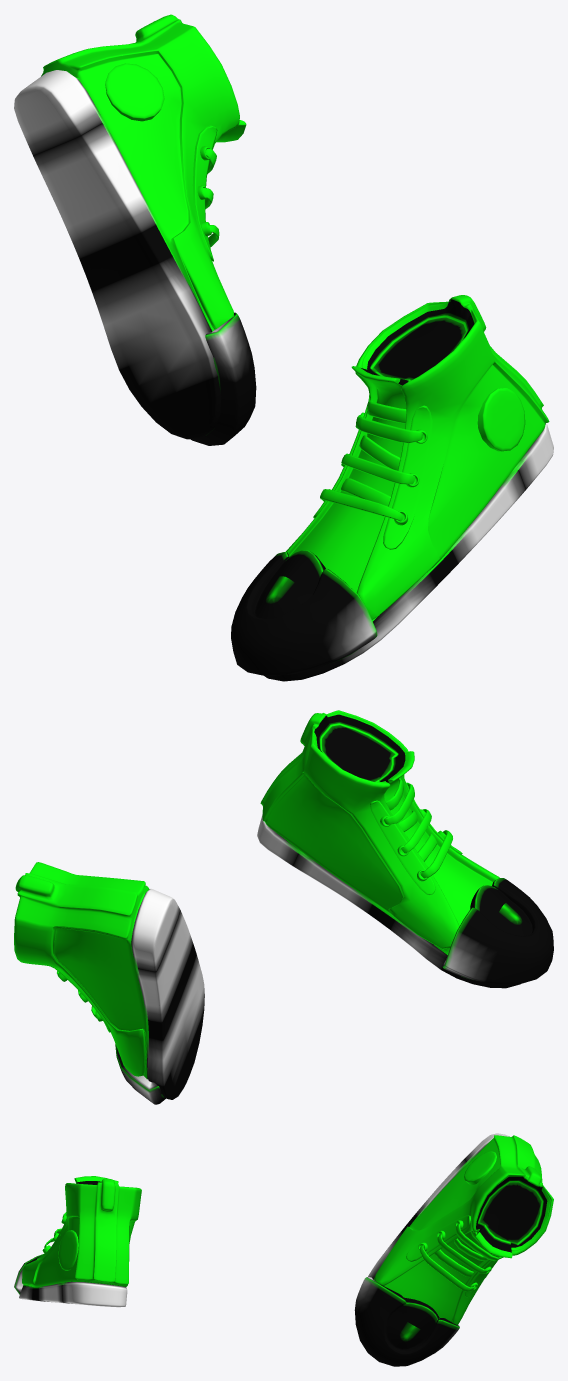
The model's file is 02_Sneakers.glb.
3 views of the same model, one above another, from view 1: azimuth 30°, elevation 25°; view 2: azimuth 150°, elevation 25°; view 3: azimuth 270°, elevation 25° (orthographic). The views are drawn at different scales.
Visible parts, largest first — view 1: Converse Right, Converse Left; view 2: Converse Left, Converse Right; view 3: Converse Right, Converse Left.
Part boxes in pixels (x1,y1,x2,y2): Converse Right: (14, 14, 256, 445); Converse Left: (231, 295, 553, 681); Converse Left: (257, 710, 553, 988); Converse Right: (14, 862, 204, 1104); Converse Right: (354, 1133, 553, 1366); Converse Left: (14, 1176, 141, 1307).
Size of the model in its own units: 0.254 by 0.2476 by 0.5595.
